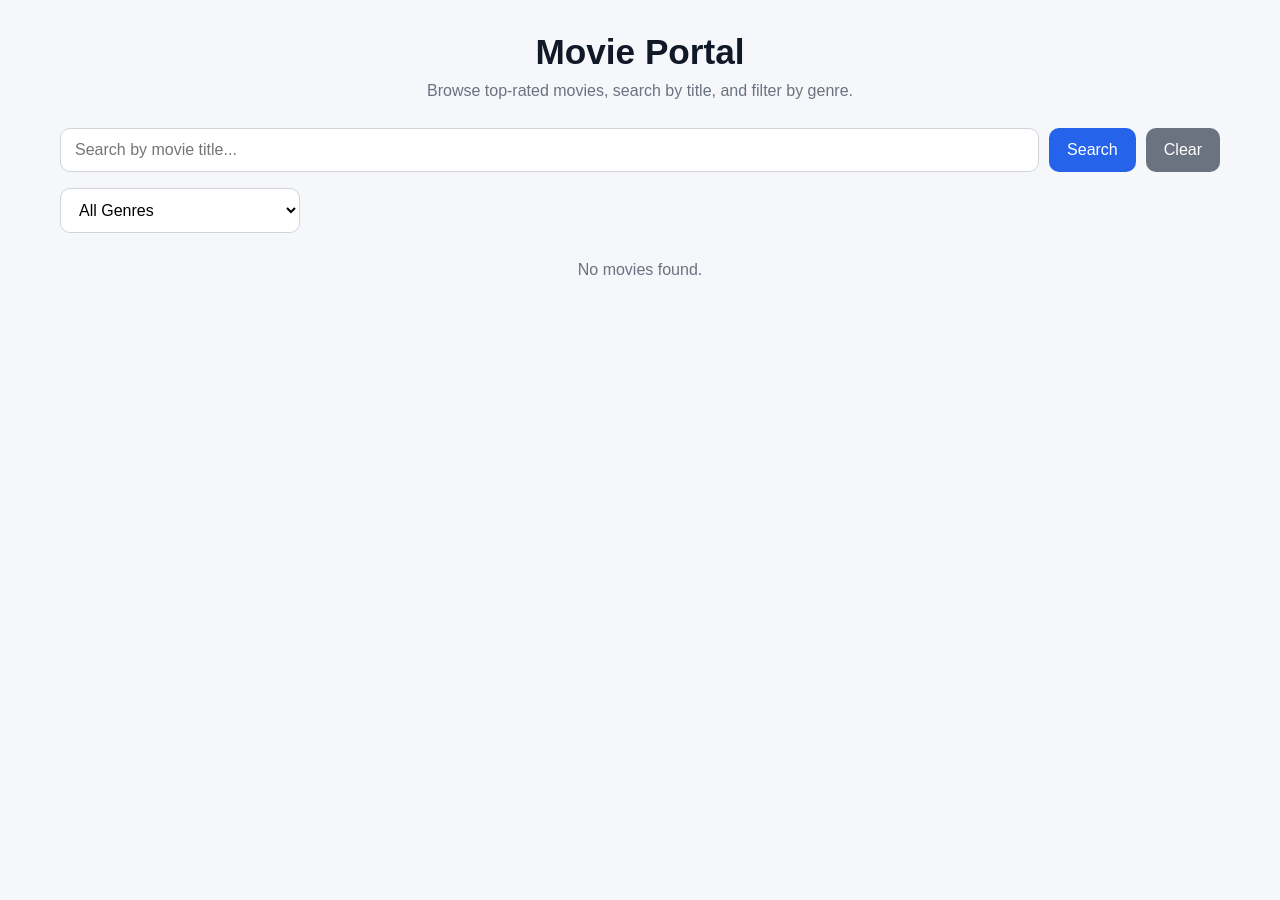
Test: HomePage › filters movies by genre
Select "Action" in the dropdown: (180, 210) top-left (60, 188), bottom-right (300, 233)
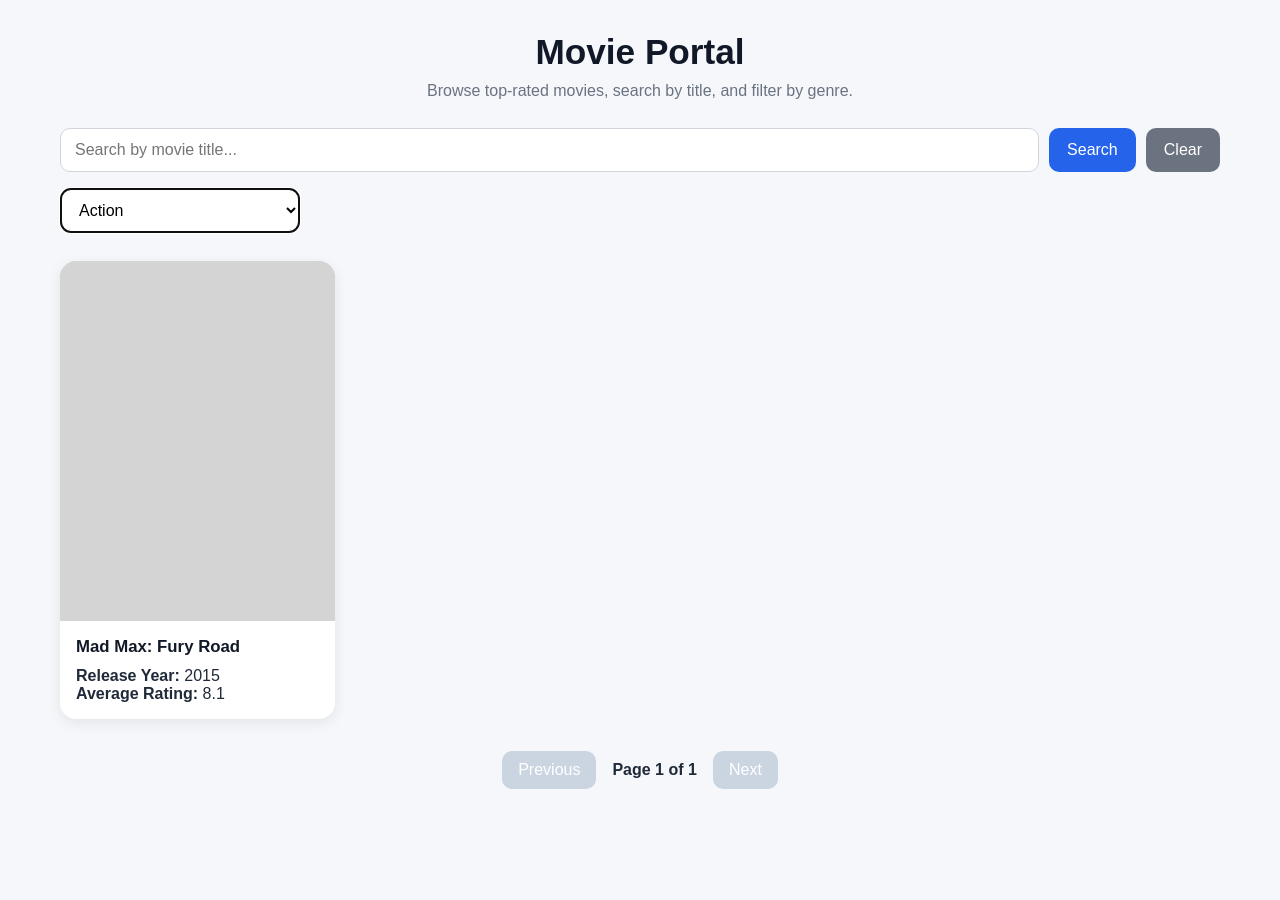
expect the heading "Mad Max: Fury Road" is shown: met, box top-left (76, 637), bottom-right (240, 656)
